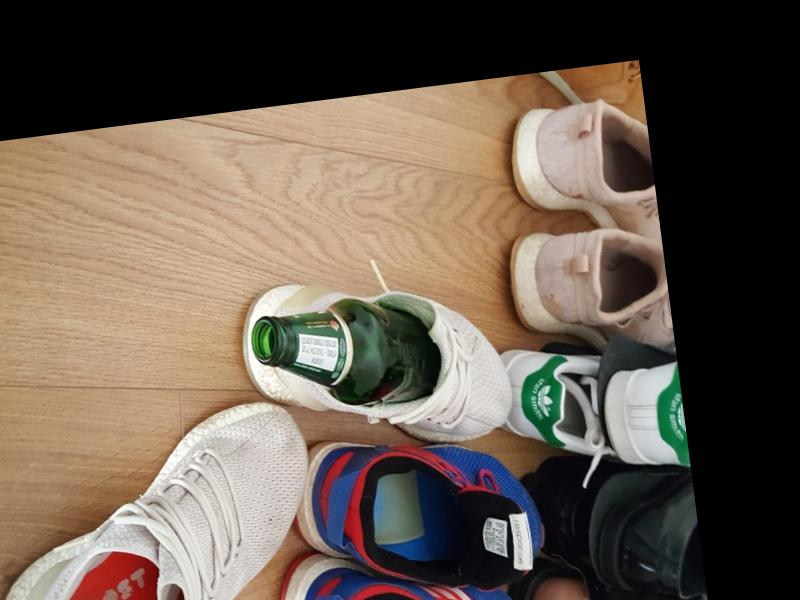Beer: (246, 288, 444, 422)
